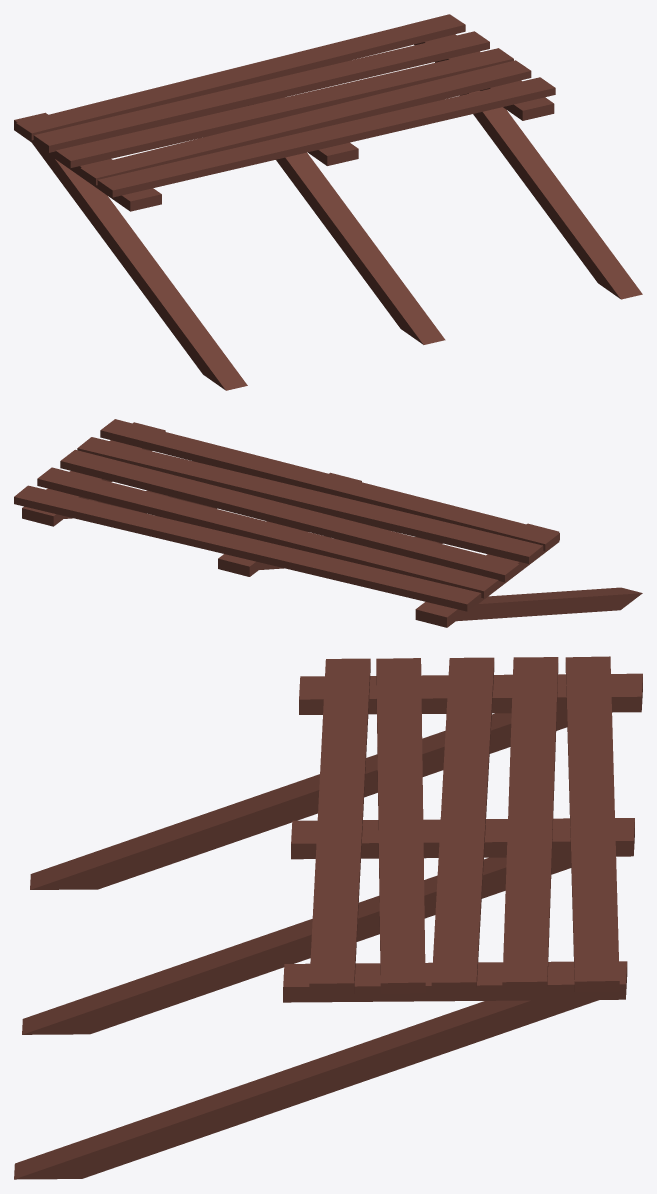
File: walkway.fbx
3 views of the same model, one above another, from view 1: azimuth 30°, elevation 25°; view 2: azimuth 150°, elevation 25°; view 3: azimuth 270°, elevation 25° (orthographic). The views are drawn at different scales.
Parts seen in each view (by area): view 1: pCube42, pCube43, pCube39, pCube44, pCube41, pCube49, pCube48, pCube47, pCube46, pCube45, pCube40; view 2: pCube44, pCube39, pCube41, pCube43, pCube42, pCube49, pCube46, pCube45, pCube40; view 3: pCube48, pCube39, pCube42, pCube43, pCube44, pCube41, pCube47, pCube49, pCube45, pCube46, pCube40.
Boxes of the visible parts, x1,y1,x2,y2 form: pCube42: (97,77,555,197); pCube43: (33,31,489,152); pCube39: (55,48,513,167); pCube44: (16,14,465,140); pCube41: (80,60,531,185); pCube49: (32,143,247,390); pCube48: (435,61,642,299); pCube47: (276,152,445,344); pCube46: (14,112,161,211); pCube45: (414,34,554,120); pCube40: (270,97,358,165); pCube44: (14,485,481,611); pCube39: (60,449,519,582); pCube41: (77,437,543,563); pCube43: (37,467,498,598); pCube42: (100,419,559,551); pCube49: (456,587,642,621); pCube46: (415,523,559,627); pCube45: (22,422,165,526); pCube40: (218,472,361,576); pCube48: (14,1000,598,1179); pCube39: (431,657,494,993); pCube42: (309,658,370,994); pCube43: (502,657,558,992); pCube44: (565,656,619,992); pCube41: (376,658,425,993); pCube47: (22,857,571,1034); pCube49: (30,713,567,889); pCube45: (283,961,627,1002); pCube46: (299,673,642,714); pCube40: (291,818,634,859).
Bounding box in the file's own units: 11.05 × 3.2 × 8.98.
